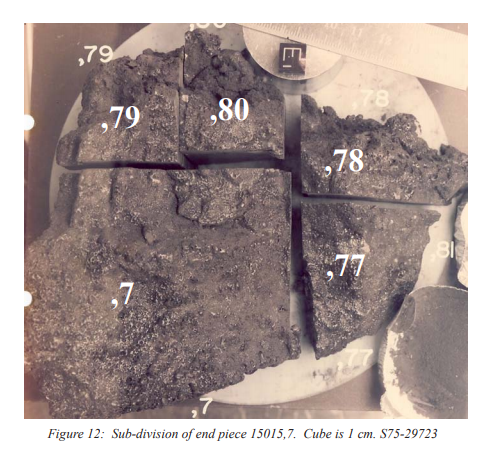Breccia: (69, 44, 461, 403), (191, 184, 313, 320)
